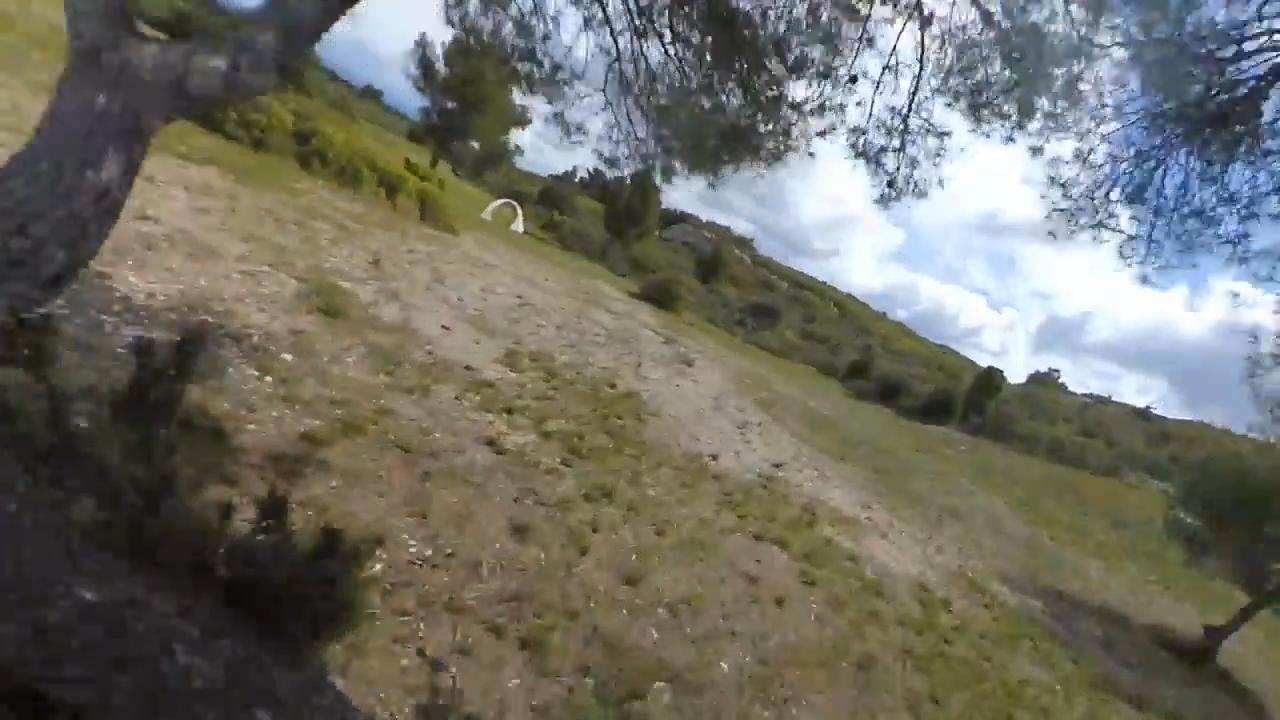gate: (480, 197, 527, 234)
